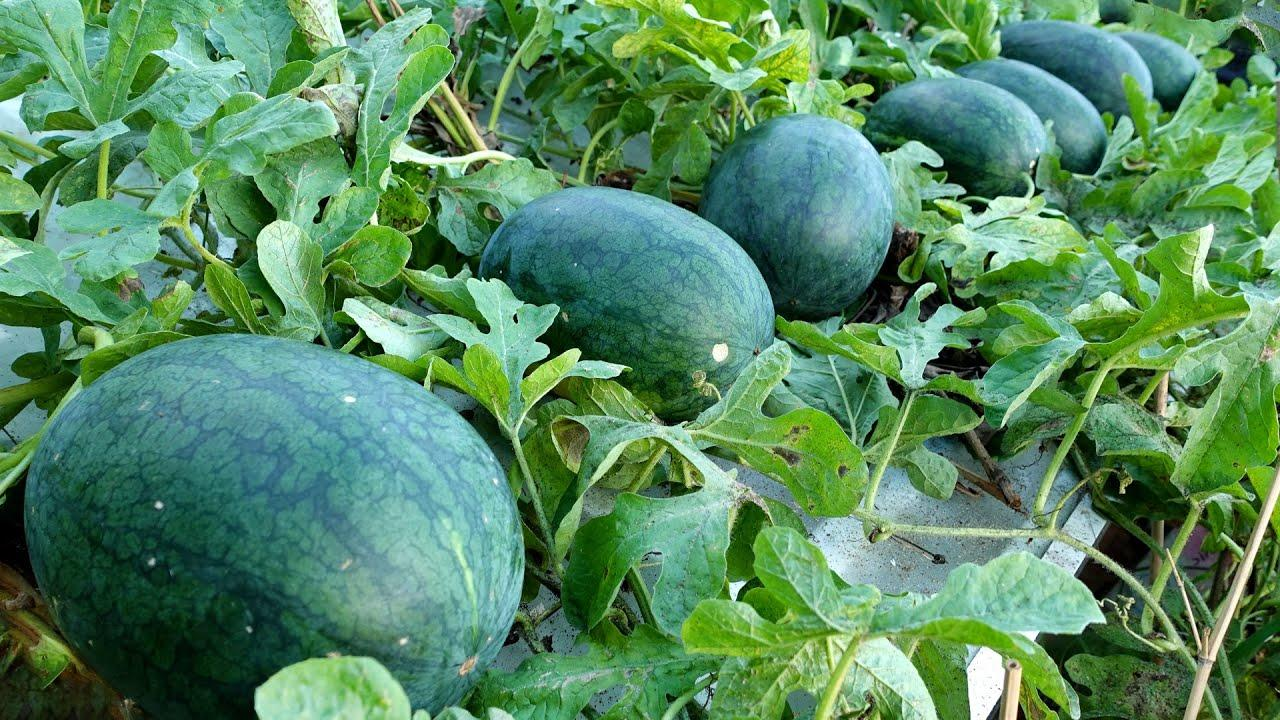watermelon: (20, 326, 543, 720), (464, 182, 790, 448), (699, 107, 907, 319), (857, 75, 1062, 227)
